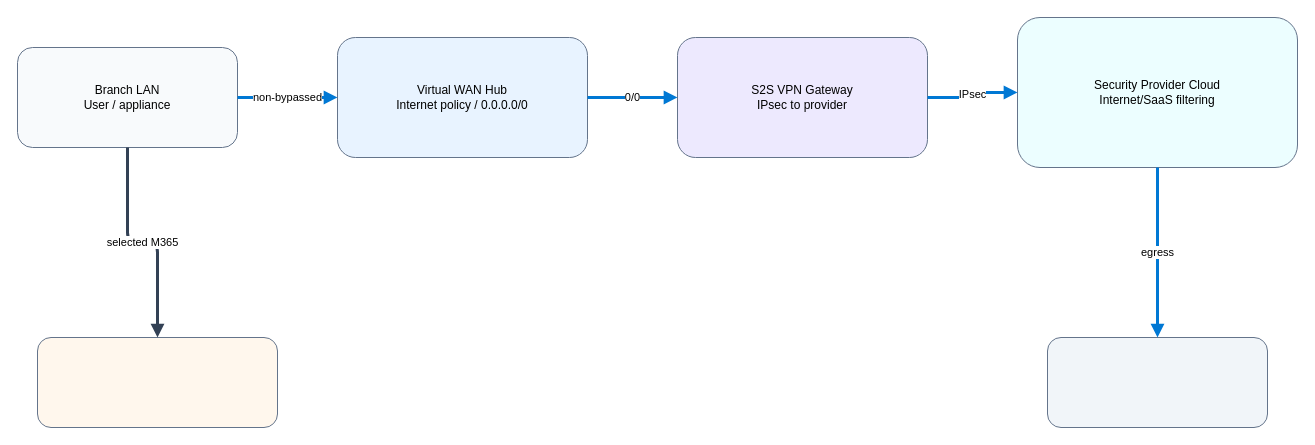
This 1315x445 diagram has some shape labels left out. Here are the shapes that lost their labels. From the top down, the centre of each, then its label:
the point at 157,382: Microsoft 365 Local breakout
the point at 1157,382: Internet / SaaS
